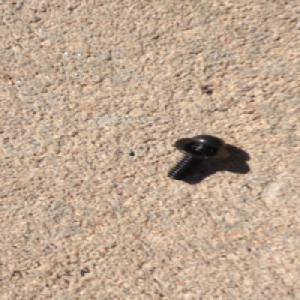BoltWasher: (167, 132, 234, 179)
